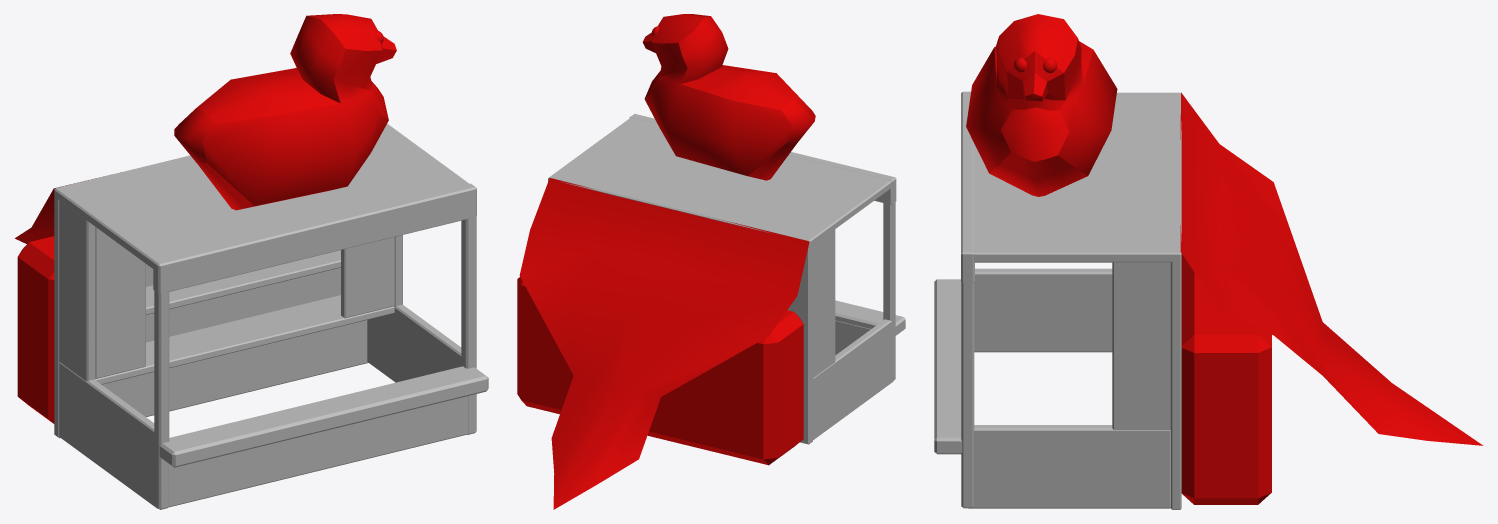
File: Targetshooting5.fbx
3 views of the same model, side by side, from view 1: azimuth 30°, elevation 25°; view 2: azimuth 150°, elevation 25°; view 3: azimuth 270°, elevation 25° (orthographic). The views are drawn at different scales.
Parts seen in each view (by area): view 1: pCube4, Roof, Backwall, Frontwalldown, Frontwallup, counter, Sidewall, shelve3, cover1, backbox, pasted__Sidewall, Sidewall1 (+6 smaller); view 2: Backsleeve, backbox, Roof, pCube4, Sidewall, pasted__Sidewall, Backwall, Pole, counter, Frontwallup, Frontwalldown; view 3: Backsleeve, Roof, pCube4, backbox, Sidewall1, Sidewall, pasted__pasted__Sidewall, counter, Pole_2, Backwall, Frontwallup.
Boxes of the visible parts, bbox=[...] form: pCube4: bbox=[174, 14, 396, 210]; Roof: bbox=[54, 123, 469, 268]; Backwall: bbox=[54, 190, 368, 438]; Frontwalldown: bbox=[168, 396, 467, 507]; Frontwallup: bbox=[153, 183, 476, 293]; counter: bbox=[159, 366, 488, 467]; Sidewall: bbox=[59, 362, 157, 508]; shelve3: bbox=[95, 295, 394, 384]; cover1: bbox=[95, 227, 145, 378]; backbox: bbox=[17, 236, 54, 423]; pasted__Sidewall: bbox=[59, 200, 95, 381]; Sidewall1: bbox=[367, 304, 461, 382]; Backsleeve: bbox=[519, 178, 809, 509]; backbox: bbox=[517, 277, 803, 465]; Roof: bbox=[548, 117, 891, 247]; pCube4: bbox=[642, 14, 815, 180]; Sidewall: bbox=[813, 319, 893, 439]; pasted__Sidewall: bbox=[813, 229, 835, 379]; Backwall: bbox=[787, 241, 812, 444]; Pole: bbox=[883, 202, 895, 381]; counter: bbox=[835, 300, 905, 335]; Frontwallup: bbox=[629, 114, 896, 204]; Frontwalldown: bbox=[835, 320, 870, 354]; Backsleeve: bbox=[1180, 92, 1483, 445]; Roof: bbox=[973, 92, 1181, 262]; pCube4: bbox=[966, 14, 1117, 196]; backbox: bbox=[1181, 254, 1271, 504]; Sidewall1: bbox=[968, 425, 1170, 508]; Sidewall: bbox=[974, 268, 1112, 352]; pasted__pasted__Sidewall: bbox=[1112, 262, 1170, 430]; counter: bbox=[934, 279, 962, 454]; Pole_2: bbox=[961, 283, 974, 508]; Backwall: bbox=[1170, 255, 1181, 509]; Frontwallup: bbox=[961, 91, 974, 282].
Bounding box in the file's own units: 1.2 × 1.53 × 1.7.
